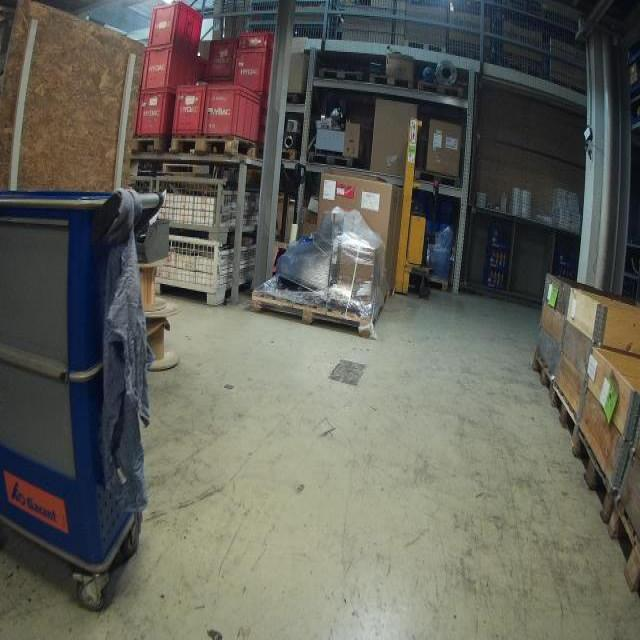pallet: (250, 290, 380, 338), (572, 430, 618, 525), (609, 492, 640, 601), (170, 135, 265, 163), (551, 381, 578, 451), (531, 350, 552, 406), (306, 150, 355, 171), (414, 169, 463, 190), (416, 79, 466, 99), (367, 73, 416, 92), (318, 66, 365, 84), (131, 134, 168, 154), (425, 275, 450, 295), (379, 287, 393, 317), (281, 147, 302, 160)
pallet_truck: (397, 115, 432, 301), (284, 161, 318, 272)
small_load_carrier: (198, 80, 271, 149), (233, 22, 274, 96), (142, 46, 201, 95), (148, 1, 201, 55), (169, 76, 206, 142), (134, 89, 176, 137), (208, 34, 239, 88)
stillage: (153, 232, 255, 313), (156, 177, 267, 240), (125, 170, 154, 214)
